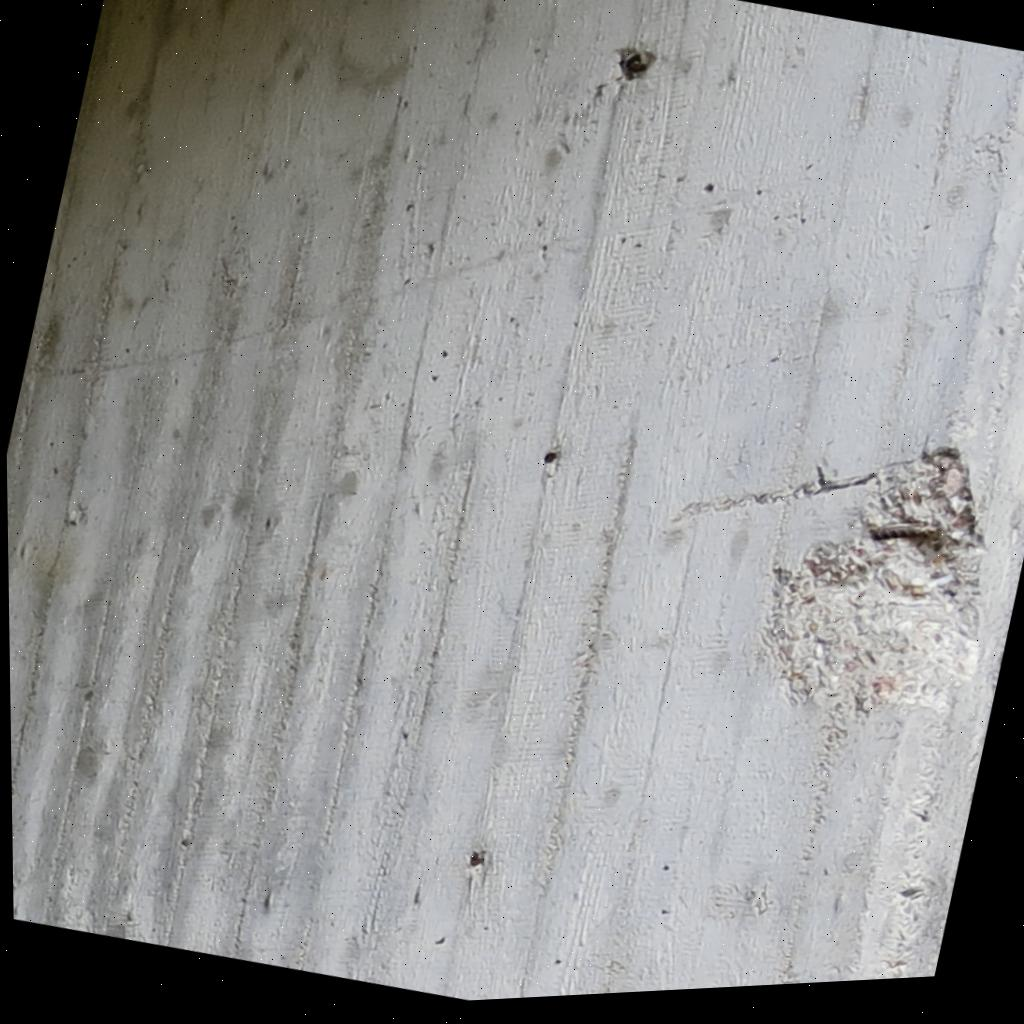spalling: (767, 448, 981, 711)
